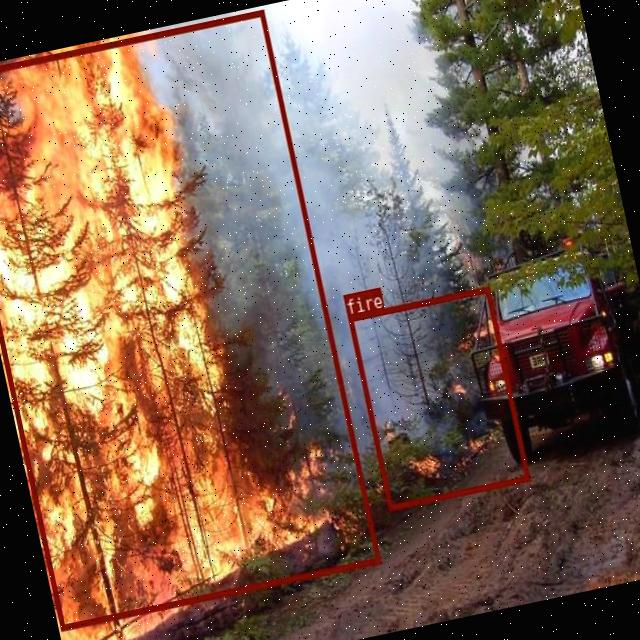fire: (0, 7, 379, 629), (346, 284, 529, 510)
